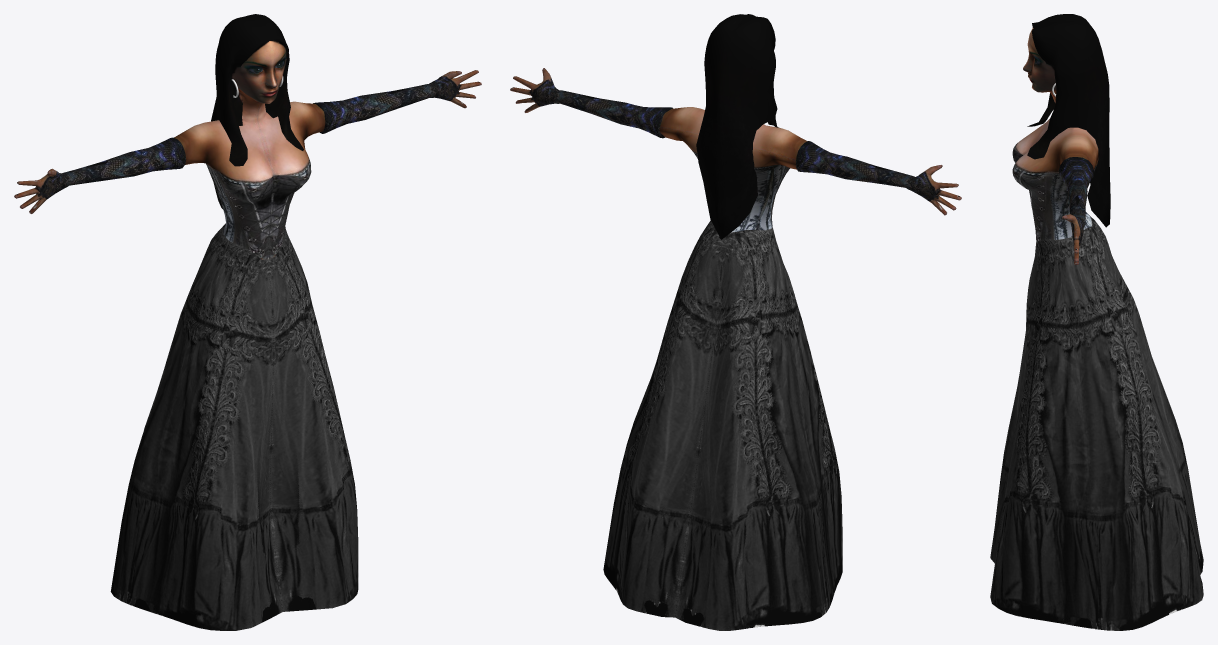
The model's file is Greta.gltf.
The picture shows the model from 3 angles, left to right: view 1: azimuth 30°, elevation 25°; view 2: azimuth 150°, elevation 25°; view 3: azimuth 270°, elevation 25°; orthographic projection. The views are drawn at different scales.
Visible parts, largest first — view 1: Skirt, Head_Torso, Hair, Corset, Arm.R, Arm.L; view 2: Skirt, Hair, Head_Torso, Arm.R, Arm.L, Corset; view 3: Skirt, Hair, Head_Torso, Corset, Arm.L.
Boxes of the visible parts, x1,y1,x2,y2 form: Skirt: (110, 224, 358, 630); Head_Torso: (174, 40, 325, 201); Hair: (211, 14, 303, 208); Corset: (221, 172, 310, 259); Arm.R: (14, 137, 186, 213); Arm.L: (313, 70, 481, 133); Skirt: (603, 220, 842, 630); Hair: (696, 14, 778, 239); Head_Torso: (659, 107, 806, 202); Arm.R: (796, 141, 961, 215); Arm.L: (510, 68, 672, 138); Corset: (731, 168, 790, 232); Skirt: (990, 216, 1203, 630); Hair: (1027, 14, 1110, 227); Head_Torso: (1013, 27, 1098, 208); Corset: (1012, 148, 1091, 244); Arm.L: (1058, 157, 1094, 264).
Size of the model in its own units: 3.27 by 3.82 by 1.32.
2 materials, 1 textured.
